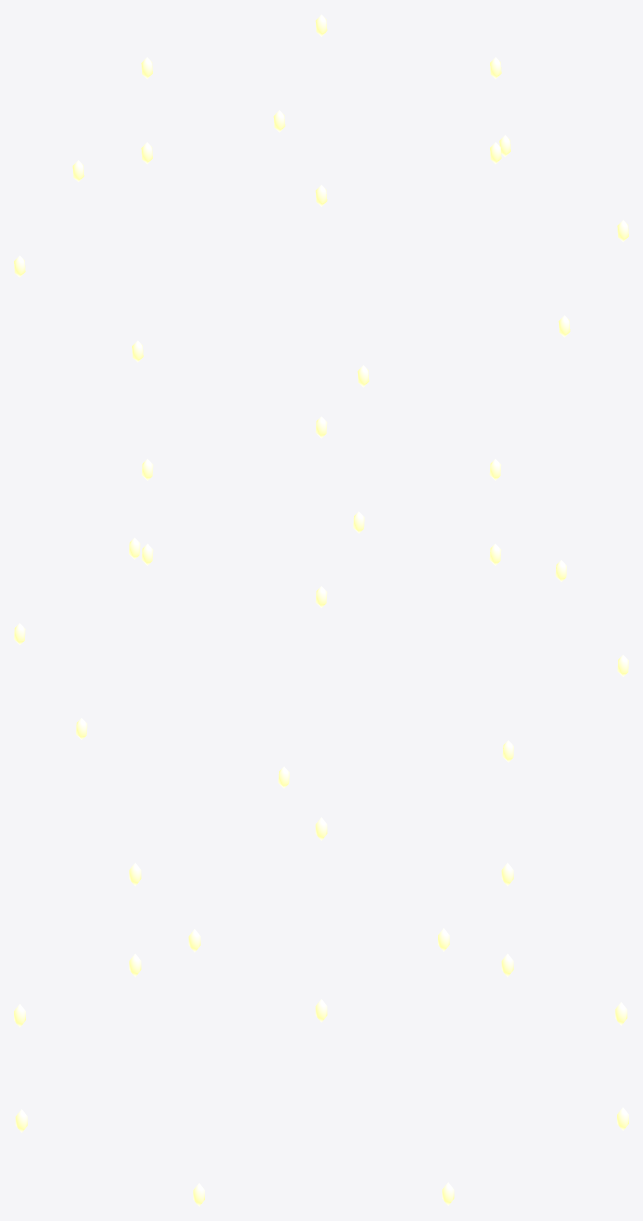
The model's file is candelabra_flames.glb.
3 renders of one model, top to bottom at view 1: azimuth 30°, elevation 25°; view 2: azimuth 150°, elevation 25°; view 3: azimuth 270°, elevation 25°, orthographic. The views are drawn at different scales.
Parts seen in each view (by area): view 1: candelabra_flames; view 2: candelabra_flames; view 3: candelabra_flames.
Part boxes in pixels (box(x1,y1,x2,y2)): candelabra_flames: box(14, 14, 628, 387); candelabra_flames: box(14, 416, 628, 788); candelabra_flames: box(14, 817, 628, 1206).
Size of the model in its own units: 1.06 by 0.3256 by 1.06.
1 material, 1 textured.
